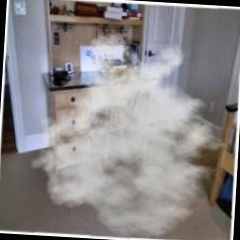smoke: (77, 72, 200, 199)
